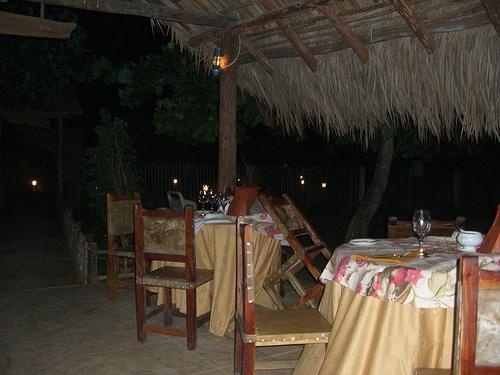chair: (236, 216, 334, 375), (135, 203, 215, 351), (415, 255, 500, 375), (259, 193, 334, 310), (106, 192, 142, 304), (389, 216, 468, 242)
